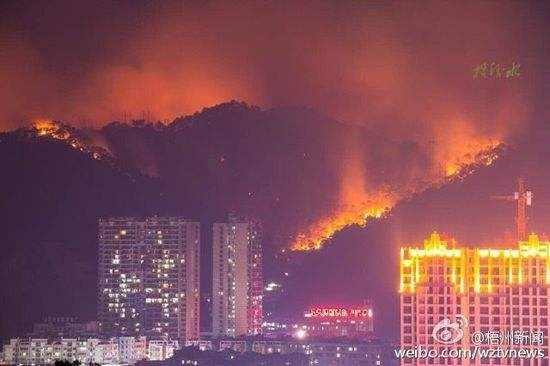fire: (398, 226, 549, 295), (30, 114, 101, 160)
